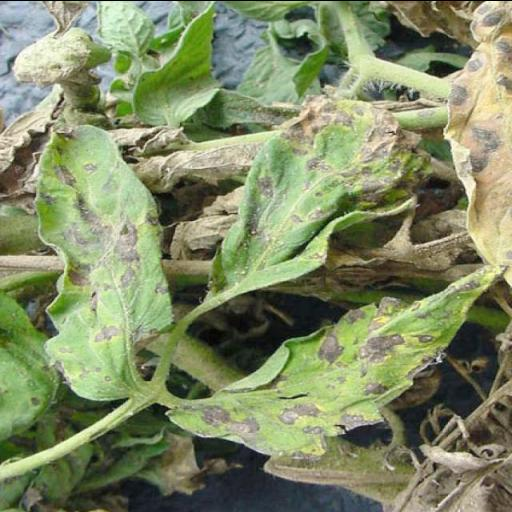Early Blight: (180, 288, 510, 457), (206, 92, 428, 296), (38, 117, 172, 405)
